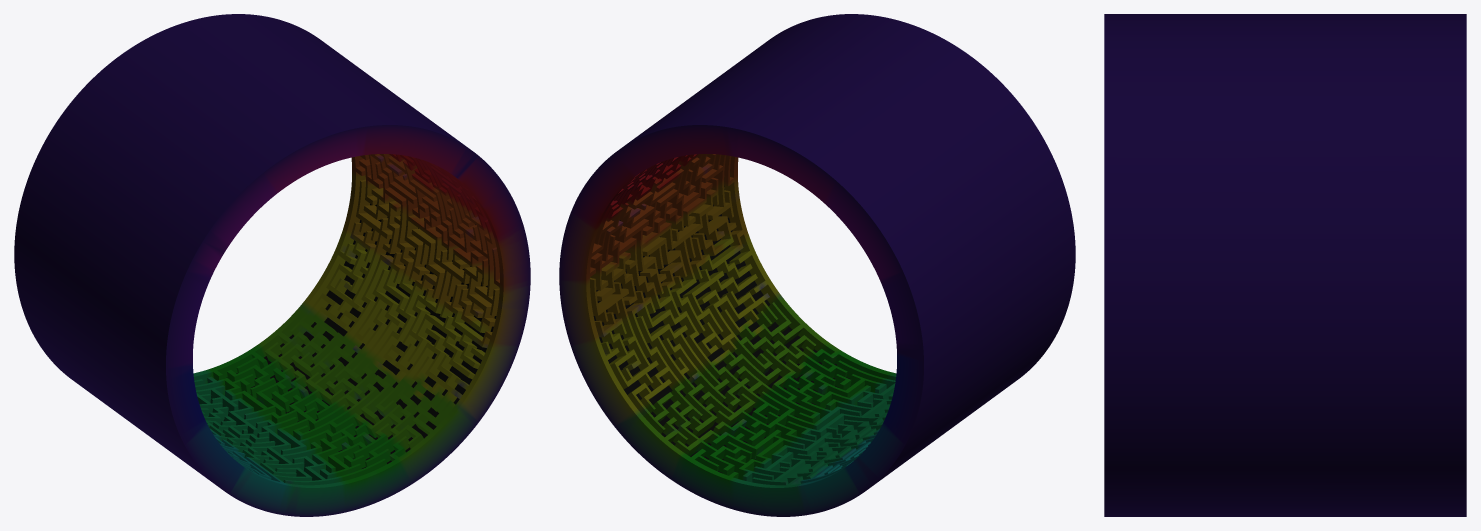
The model's file is CIRCULABYRINTH.glb.
3 renders of one model, left to right at view 1: azimuth 30°, elevation 25°; view 2: azimuth 150°, elevation 25°; view 3: azimuth 270°, elevation 25°, orthographic. The views are drawn at different scales.
Visible parts, largest first — view 1: CYLABYRINTH; view 2: CYLABYRINTH; view 3: CYLABYRINTH.
Boxes of the visible parts, left/top/right/bottom form: CYLABYRINTH: left=14, top=14, right=530, bottom=516; CYLABYRINTH: left=559, top=14, right=1075, bottom=516; CYLABYRINTH: left=1104, top=14, right=1466, bottom=516.
Bounding box in the file's own units: 353 × 353 × 254.
